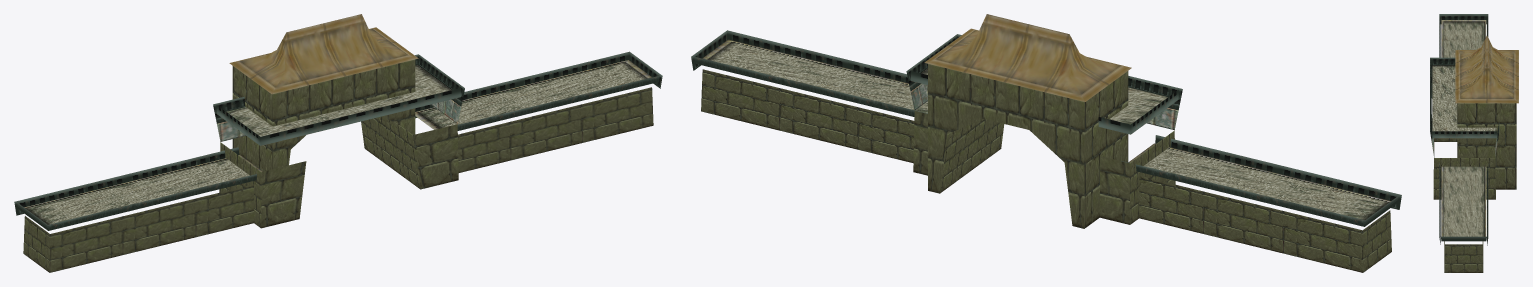
Rendered from l_palacegate.glb.
3 views of the same model, side by side, from view 1: azimuth 30°, elevation 25°; view 2: azimuth 150°, elevation 25°; view 3: azimuth 270°, elevation 25° (orthographic). The views are drawn at different scales.
Visible parts, largest first — view 1: Gate; view 2: Gate; view 3: Gate.
Boxes of the visible parts, left/top/right/bottom form: Gate: left=14, top=14, right=662, bottom=272; Gate: left=691, top=14, right=1401, bottom=272; Gate: left=1430, top=14, right=1518, bottom=272.
Bounding box in the file's own units: 58.48 × 14.06 × 9.82.
Materials: 4 (4 with a texture image).
